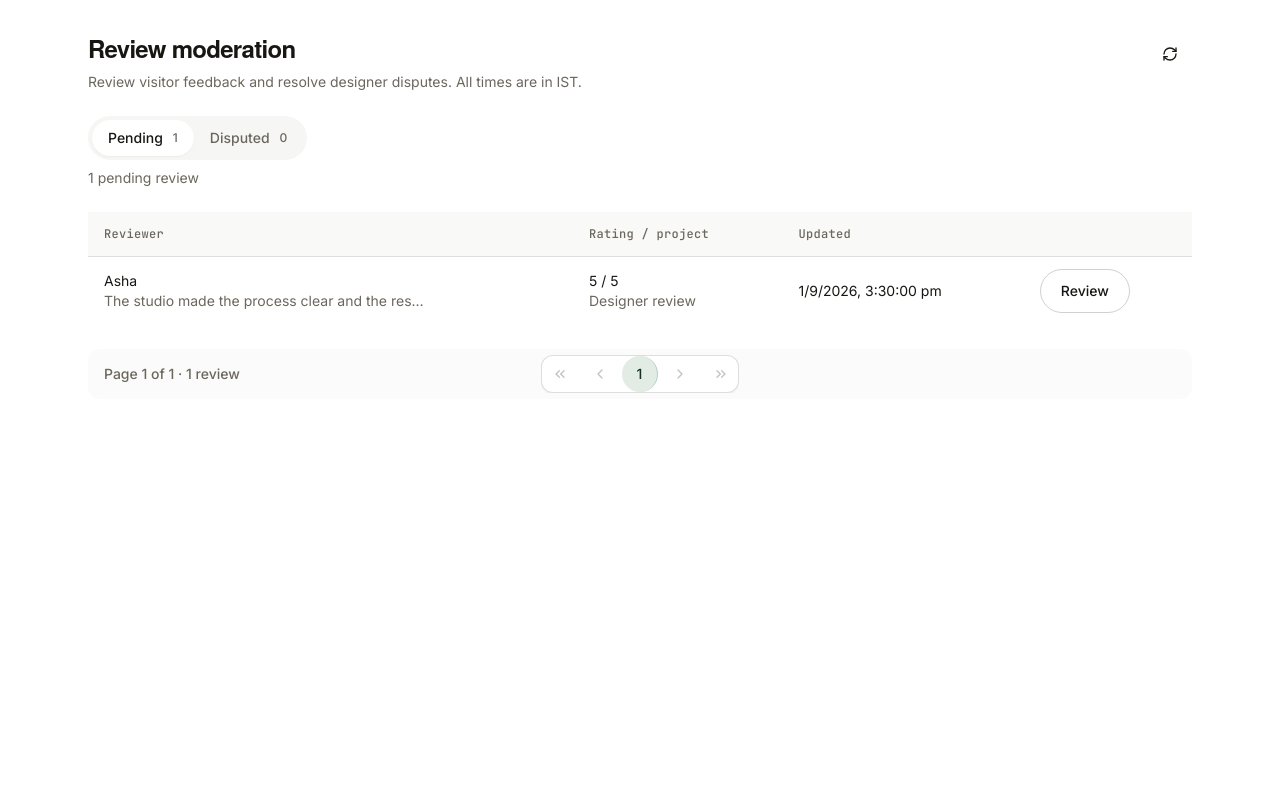
Test: AdminReviewQueue › shows refresh details as an icon button with a tooltip
Click the button with aria-label "Review feedback by Asha": click(1085, 290) [1040,268,1130,312]
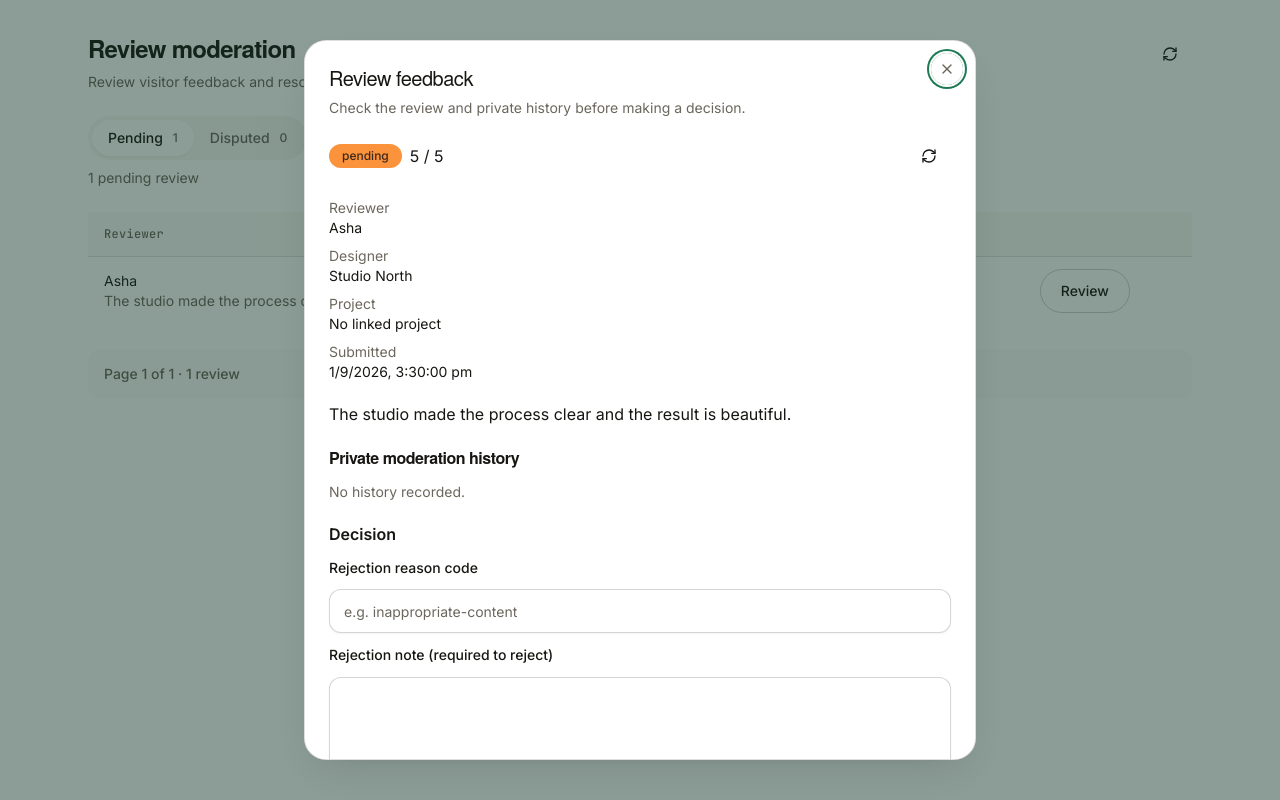
Result: the text "Studio North" is shown at [329,267,412,284]
Result: the 2nd icon is shown at [921,148,937,164]
Hover over the button named "Refresh details": (929, 156) [907,134,951,178]
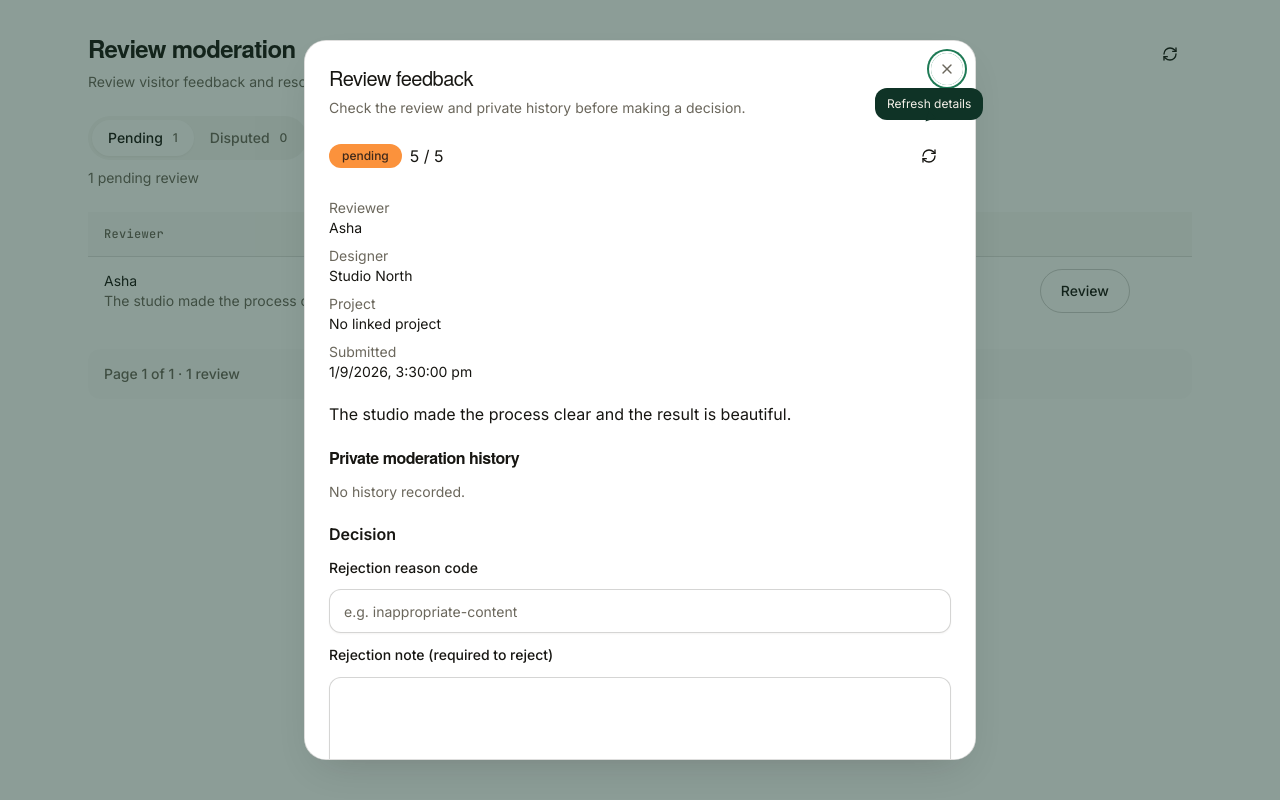
Result: the tooltip reads "Refresh details" at [887,96,971,111]
